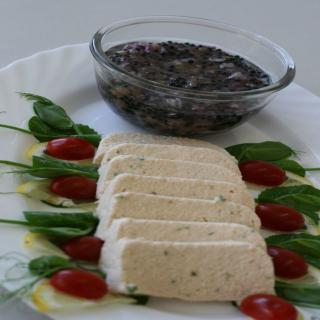Cheese: (93, 133, 277, 303)
